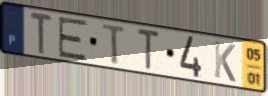4: (178, 35, 204, 80)
E: (57, 16, 89, 63)
K: (212, 39, 237, 84)
T: (29, 10, 55, 57), (101, 22, 128, 66), (136, 27, 162, 72)
